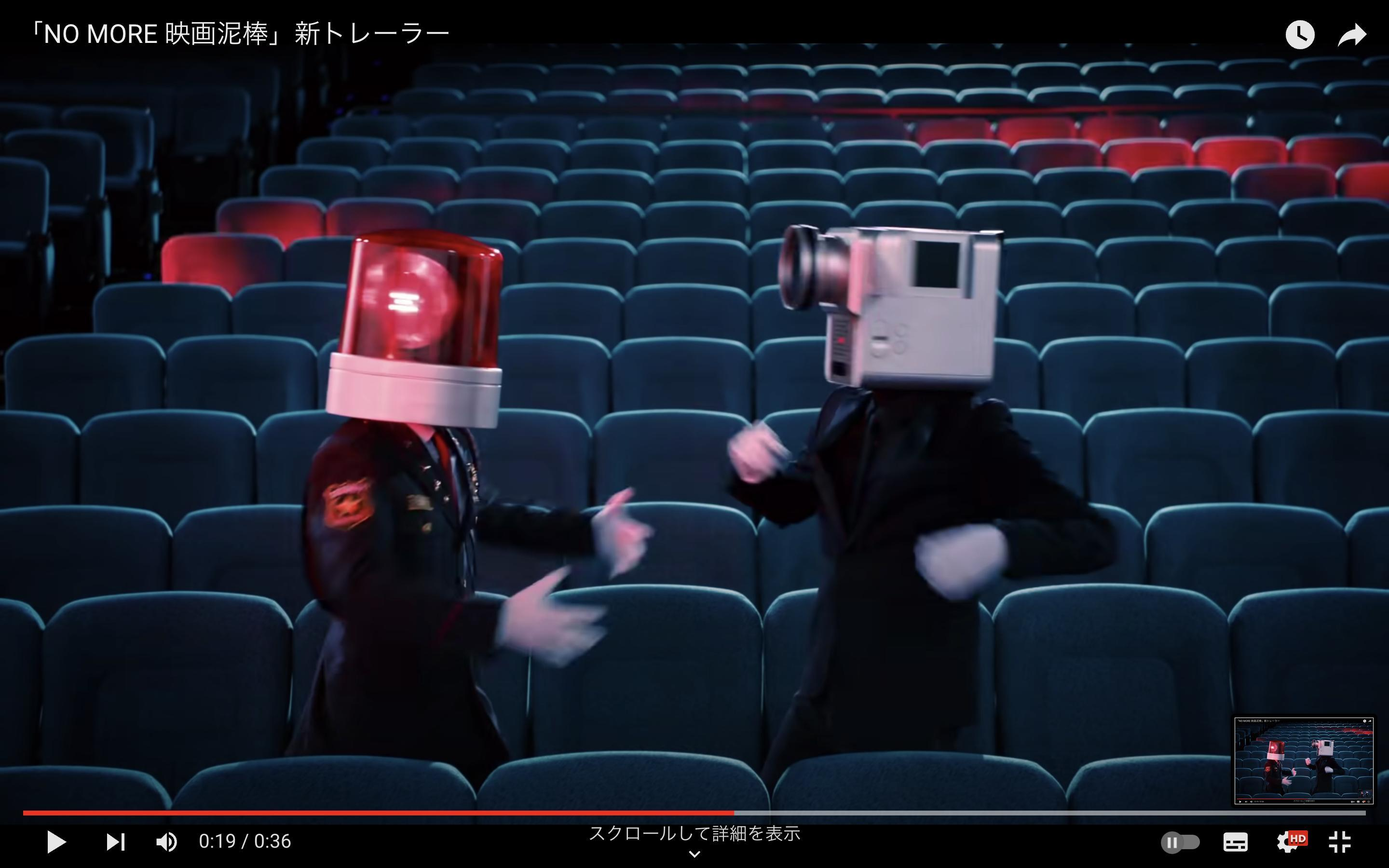no more kid: (765, 211, 1033, 409)
